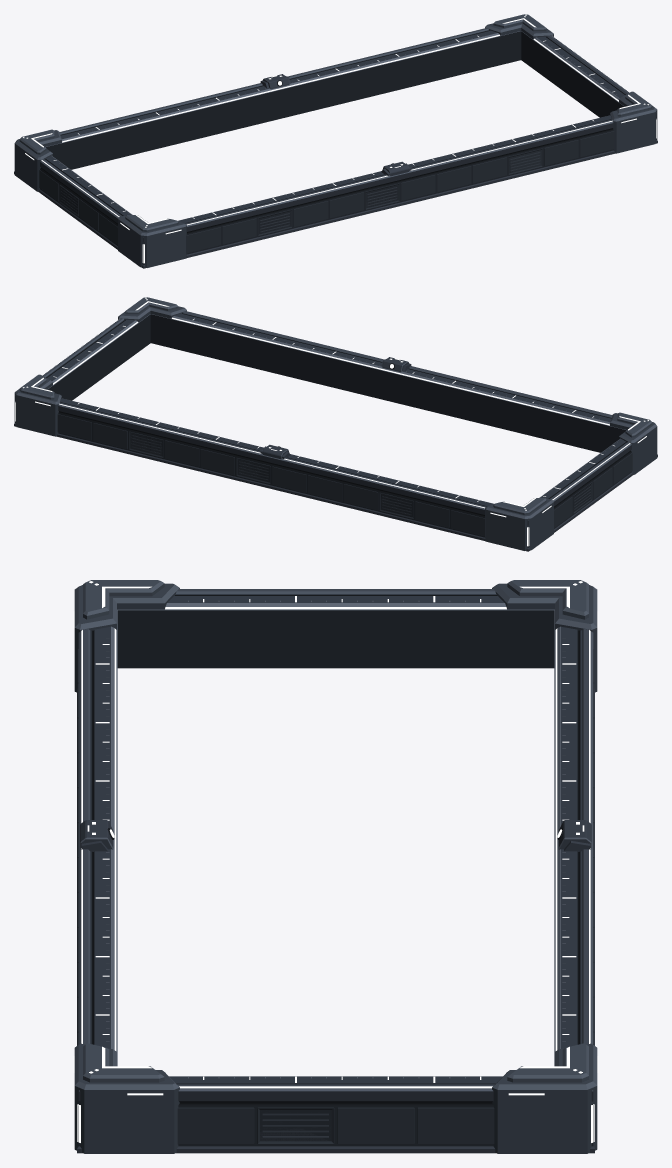
File: holo-map-frame.glb
3 views of the same model, one above another, from view 1: azimuth 30°, elevation 25°; view 2: azimuth 150°, elevation 25°; view 3: azimuth 270°, elevation 25° (orthographic). The views are drawn at different scales.
Visible parts, largest first — view 1: Frame; view 2: Frame; view 3: Frame.
Boxes of the visible parts, x1,y1,x2,y2 form: Frame: (14,14,657,268); Frame: (14,297,657,551); Frame: (73,580,598,1153).
Bounding box in the file's own units: 8.63 × 0.6 × 3.79.
